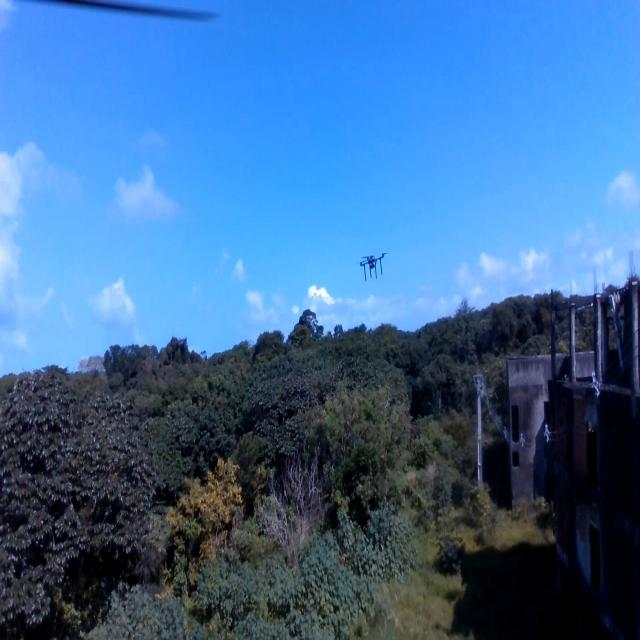-uav-: (352, 244, 401, 298)
